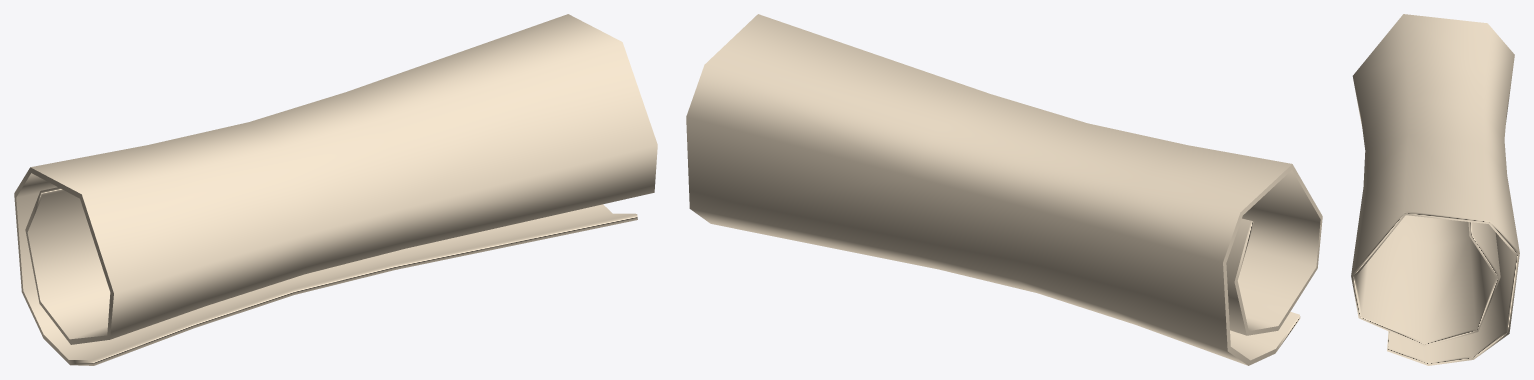
The model's file is Asset_Scroll.fbx.
3 views of the same model, side by side, from view 1: azimuth 30°, elevation 25°; view 2: azimuth 150°, elevation 25°; view 3: azimuth 270°, elevation 25° (orthographic). The views are drawn at different scales.
Visible parts, largest first — view 1: Asset_Scroll; view 2: Asset_Scroll; view 3: Asset_Scroll.
Part boxes in pixels (x1,y1,x2,y2): Asset_Scroll: [14, 14, 657, 365]; Asset_Scroll: [686, 14, 1322, 365]; Asset_Scroll: [1351, 14, 1519, 365].
Size of the model in its own units: 47.53 by 16.78 by 15.73.
